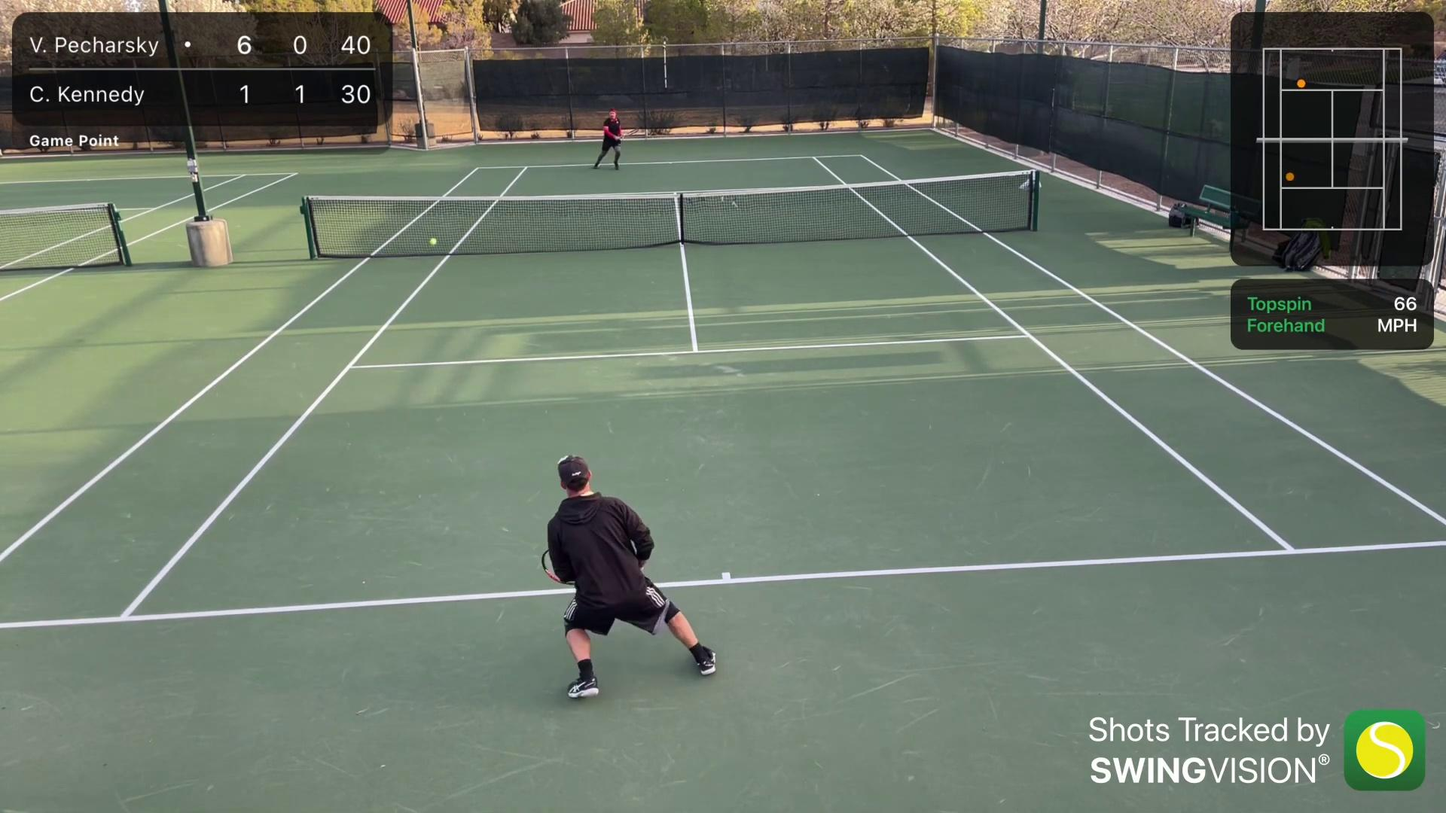ball: (429, 236, 438, 245)
